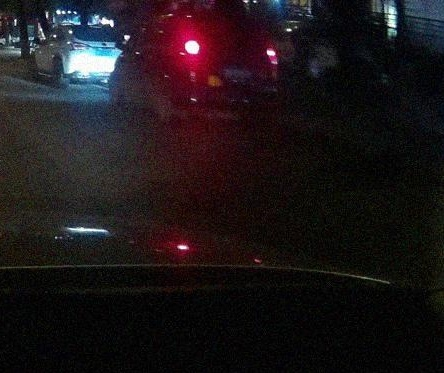L_light: (183, 39, 211, 57)
R_light: (252, 47, 279, 65)
T_light: (217, 15, 237, 21)
night-left: (159, 12, 280, 125)
